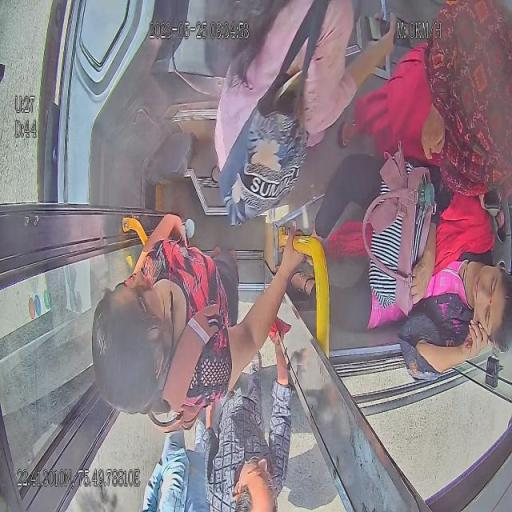persona: (288, 148, 511, 382), (91, 212, 314, 438), (210, 1, 400, 229), (337, 0, 511, 204), (206, 338, 298, 511), (142, 417, 213, 512)
